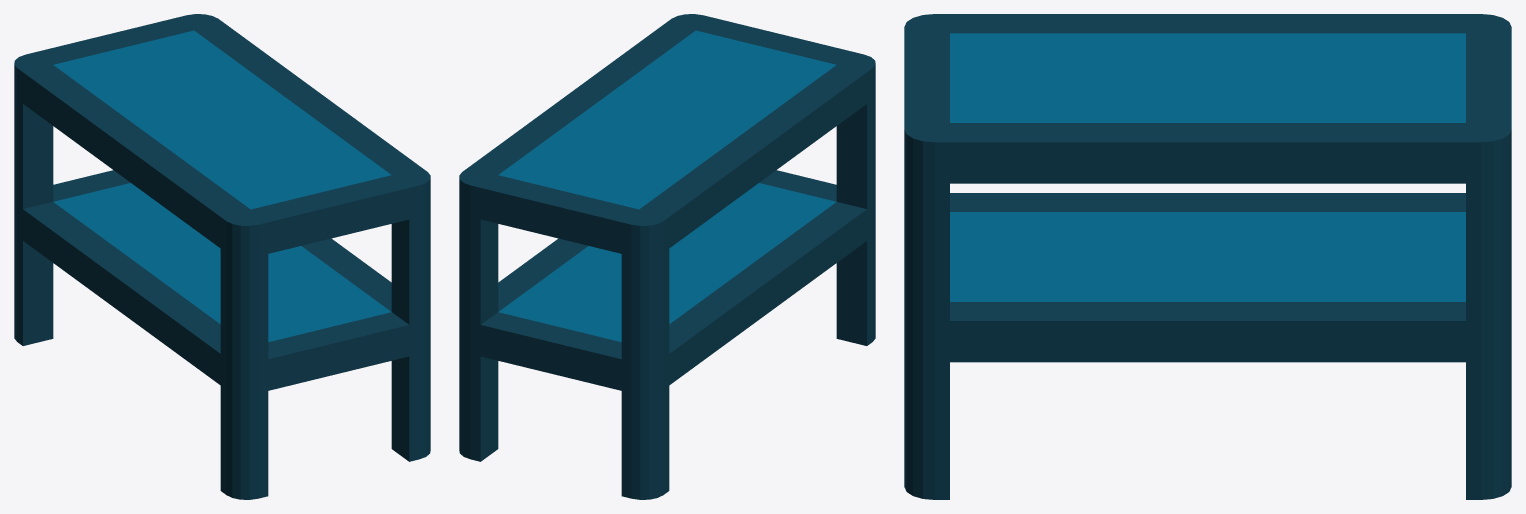
The model's file is G01_009_ShelfA.fbx.
3 views of the same model, side by side, from view 1: azimuth 30°, elevation 25°; view 2: azimuth 150°, elevation 25°; view 3: azimuth 270°, elevation 25° (orthographic). The views are drawn at different scales.
Parts seen in each view (by area): view 1: 006_Table_B, 立方体.078, 立方体.073, 立方体.076, Foot, 立方体.077, 立方体.080, 立方体.047; view 2: 006_Table_B, 立方体.078, 立方体.073, 立方体.076, Foot, 立方体.077, 立方体.080, 立方体.047; view 3: 006_Table_B, 立方体.076, 立方体.078, 立方体.073, Foot, 立方体.077, 立方体.080, 立方体.047.
Boxes of the visible parts, box(x1,y1,x2,y2) form: 006_Table_B: box(23, 17, 421, 253); 立方体.078: box(53, 30, 391, 209); 立方体.073: box(23, 170, 409, 390); 立方体.076: box(53, 183, 391, 341); Foot: box(14, 233, 430, 499); 立方体.077: box(14, 96, 430, 362); 立方体.080: box(14, 14, 430, 257); 立方体.047: box(14, 202, 430, 394); 006_Table_B: box(468, 17, 866, 253); 立方体.078: box(498, 30, 836, 209); 立方体.073: box(480, 170, 866, 390); 立方体.076: box(498, 183, 836, 341); Foot: box(459, 233, 875, 499); 立方体.077: box(459, 96, 875, 362); 立方体.080: box(459, 14, 875, 257); 立方体.047: box(459, 202, 875, 394); 006_Table_B: box(904, 14, 1511, 183); 立方体.076: box(950, 212, 1465, 301); 立方体.078: box(950, 33, 1465, 122); 立方体.073: box(950, 193, 1465, 362); Foot: box(904, 350, 1511, 499); 立方体.077: box(904, 171, 1511, 320); 立方体.080: box(904, 14, 1511, 183); 立方体.047: box(904, 309, 1511, 362).
Bounding box in the file's own units: 200 × 260 × 400.
